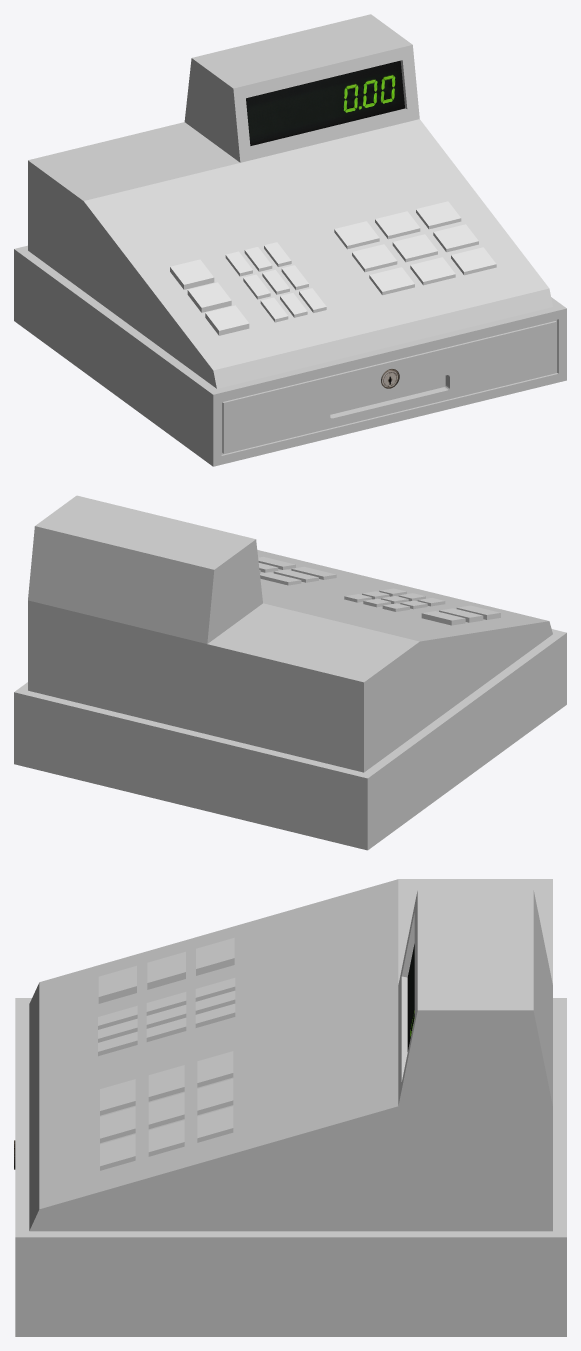
File: caixa_registradora.glb
3 renders of one model, top to bottom at view 1: azimuth 30°, elevation 25°; view 2: azimuth 150°, elevation 25°; view 3: azimuth 270°, elevation 25°, orthographic. The views are drawn at different scales.
Visible parts, largest first — view 1: Cube, Cube.001; view 2: Cube, Cube.001; view 3: Cube, Cube.001.
Boxes of the visible parts, x1,y1,x2,y2 form: Cube: (14, 14, 566, 466); Cube.001: (170, 201, 496, 335); Cube: (14, 495, 566, 850); Cube.001: (258, 556, 500, 625); Cube: (15, 879, 566, 1336); Cube.001: (98, 937, 235, 1170).
Size of the model in its own units: 0.3242 by 0.2027 by 0.317.
2 materials, 1 textured.
